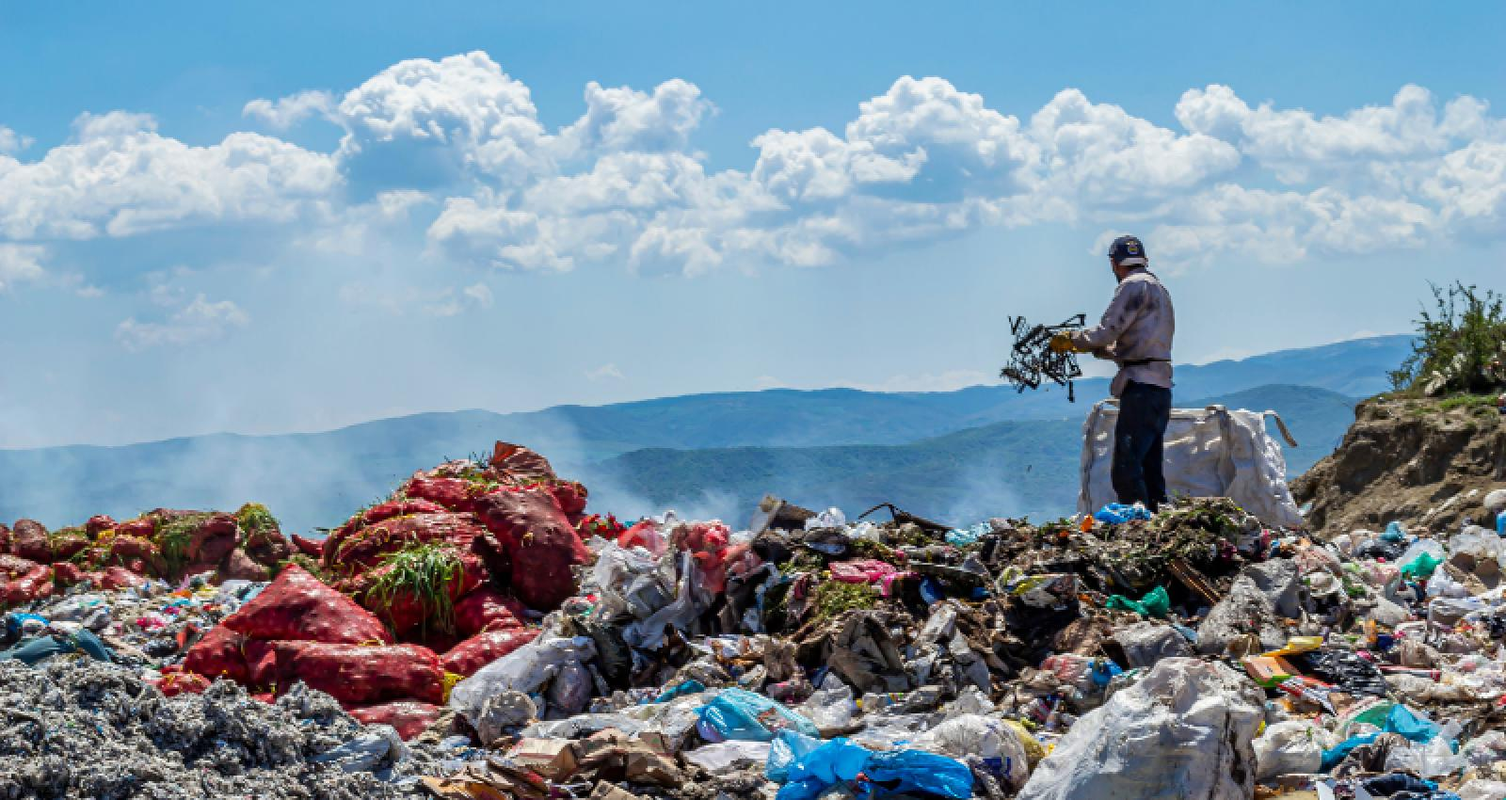garbage: (0, 435, 1506, 800)
